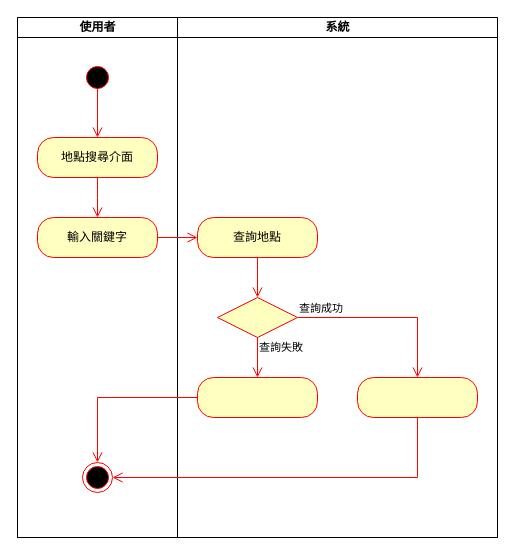
The diagram is 515 pixels wide and 555 high, and some of its shapes have lost their labels. Here are the shapes that lost their labels. From the top down, the centre of each, then its label:
At (x=257, y=397): "顯示查無 條件相符地點".
At (x=417, y=397): "顯示 條件相符地點".
